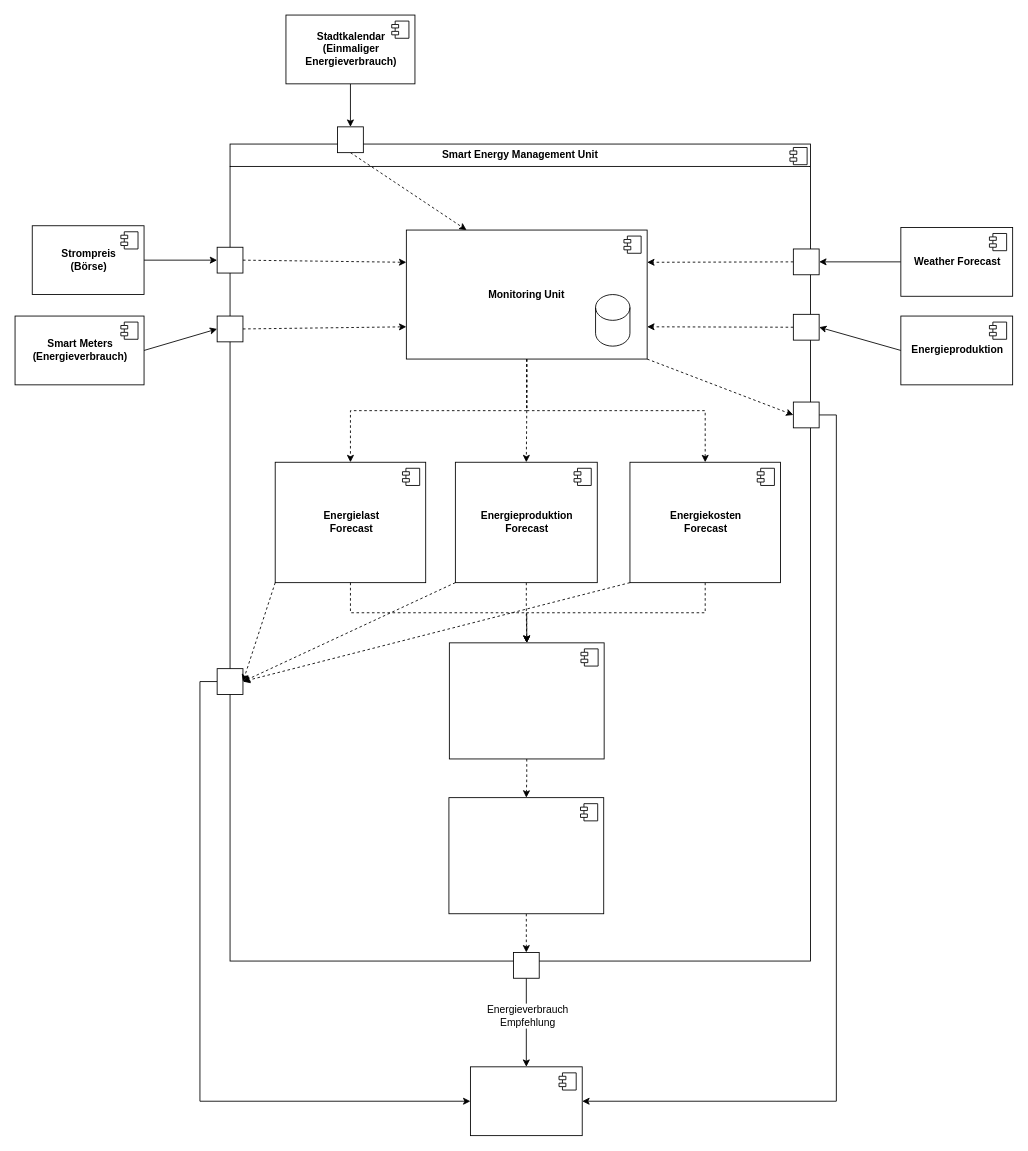
This 1028x1151 diagram has some shape labels left out. Each missing label, with the centre of its shape:
"Dashboard" goes at (526,1101).
"Optimisation Module" goes at (526,700).
"TS DB" goes at (612,320).
"Visualisation Module" goes at (526,855).
